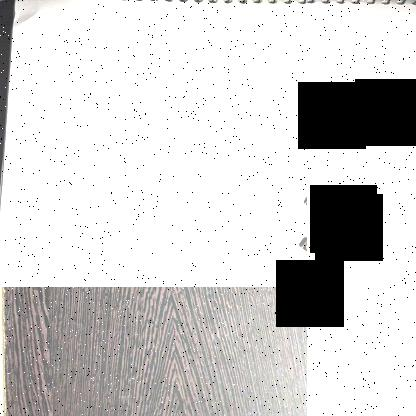NUTS: (329, 231, 391, 263), (326, 190, 376, 214), (291, 234, 307, 260), (297, 193, 307, 213)
